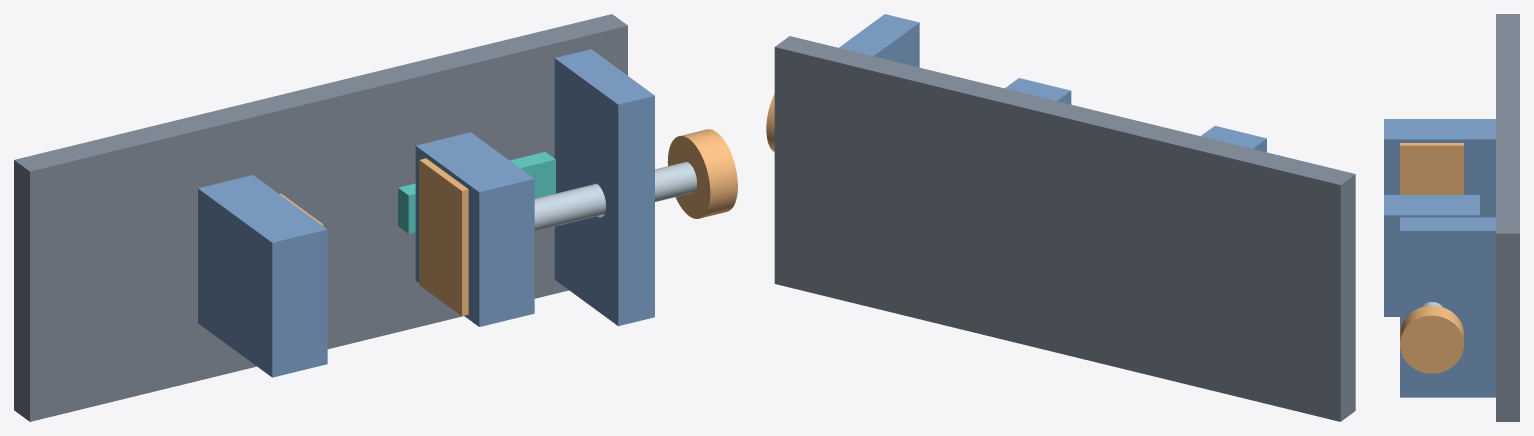
Rendered from assembly.glb.
3 views of the same model, side by side, from view 1: azimuth 30°, elevation 25°; view 2: azimuth 150°, elevation 25°; view 3: azimuth 270°, elevation 25° (orthographic). The views are drawn at different scales.
Visible parts, largest first — view 1: base, actuator_support, fixed_jaw, moving_jaw, moving_pad, knob, rod, rail_central; view 2: base, actuator_support, moving_jaw, fixed_jaw; view 3: actuator_support, base, fixed_jaw, moving_jaw, knob, fixed_pad.
Boxes of the visible parts, x1,y1,x2,y2 form: base: (14, 14, 627, 421); actuator_support: (554, 49, 654, 325); fixed_jaw: (198, 175, 327, 377); moving_jaw: (415, 132, 534, 326); moving_pad: (419, 158, 468, 315); knob: (667, 129, 737, 218); rod: (534, 162, 696, 231); rail_central: (398, 152, 555, 233); base: (774, 36, 1355, 421); actuator_support: (839, 14, 919, 67); moving_jaw: (1005, 78, 1071, 104); fixed_jaw: (1201, 126, 1266, 152); actuator_support: (1400, 217, 1495, 397); base: (1496, 14, 1519, 421); fixed_jaw: (1384, 119, 1495, 217); moving_jaw: (1384, 195, 1479, 316); knob: (1400, 305, 1463, 373); fixed_pad: (1400, 143, 1463, 194).
Bounding box in the file's own units: 0.14 × 0.052 × 0.034.
